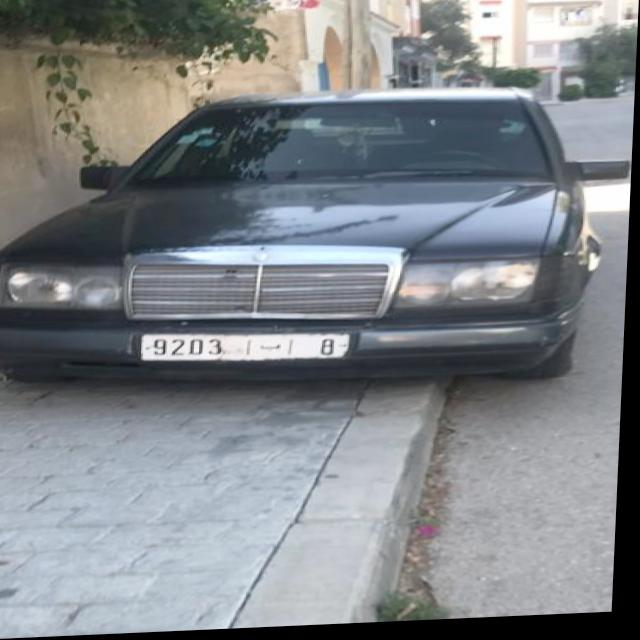License-Plate: (145, 337, 351, 363)
